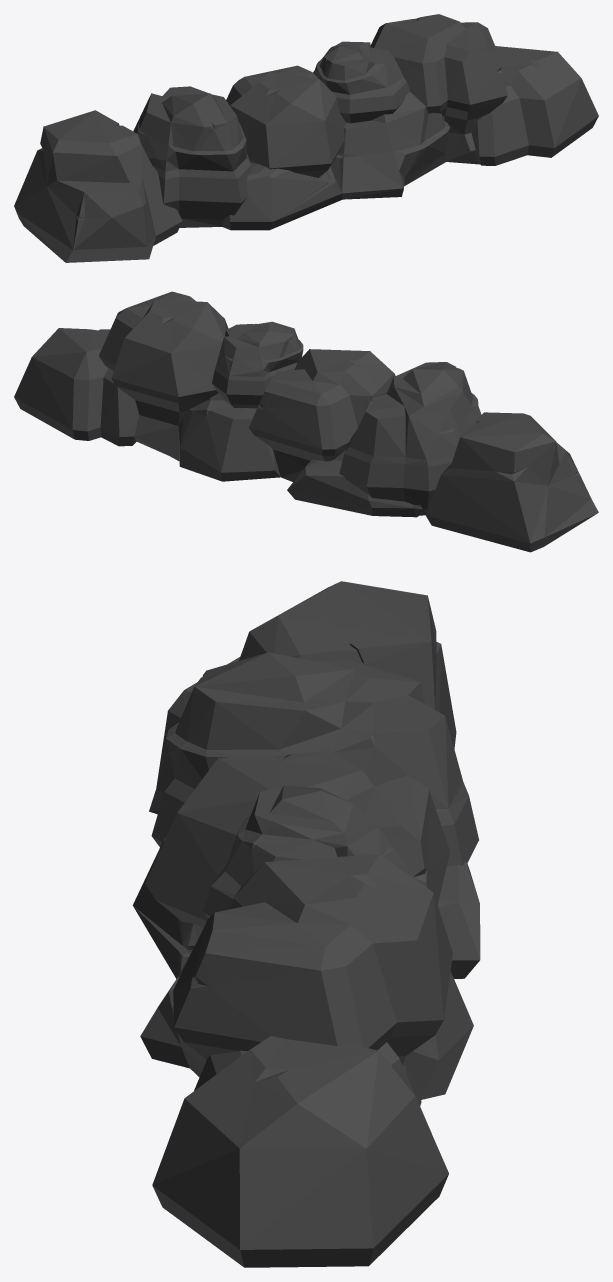
Rendered from rock__rockwall_straight_dark.glb.
3 renders of one model, top to bottom at view 1: azimuth 30°, elevation 25°; view 2: azimuth 150°, elevation 25°; view 3: azimuth 270°, elevation 25°, orthographic. The views are drawn at different scales.
Visible parts, largest first — view 1: rockwall.straight.dark; view 2: rockwall.straight.dark; view 3: rockwall.straight.dark.
Boxes of the visible parts, bbox=[...] form: rockwall.straight.dark: bbox=[14, 14, 598, 262]; rockwall.straight.dark: bbox=[14, 291, 598, 552]; rockwall.straight.dark: bbox=[132, 581, 480, 1267].
Size of the model in its own units: 6.74 by 1.5 by 1.88.
Materials: 1 (1 with a texture image).
